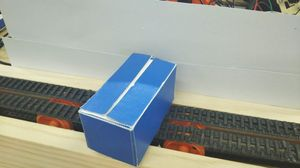box3: (76, 51, 175, 167)
